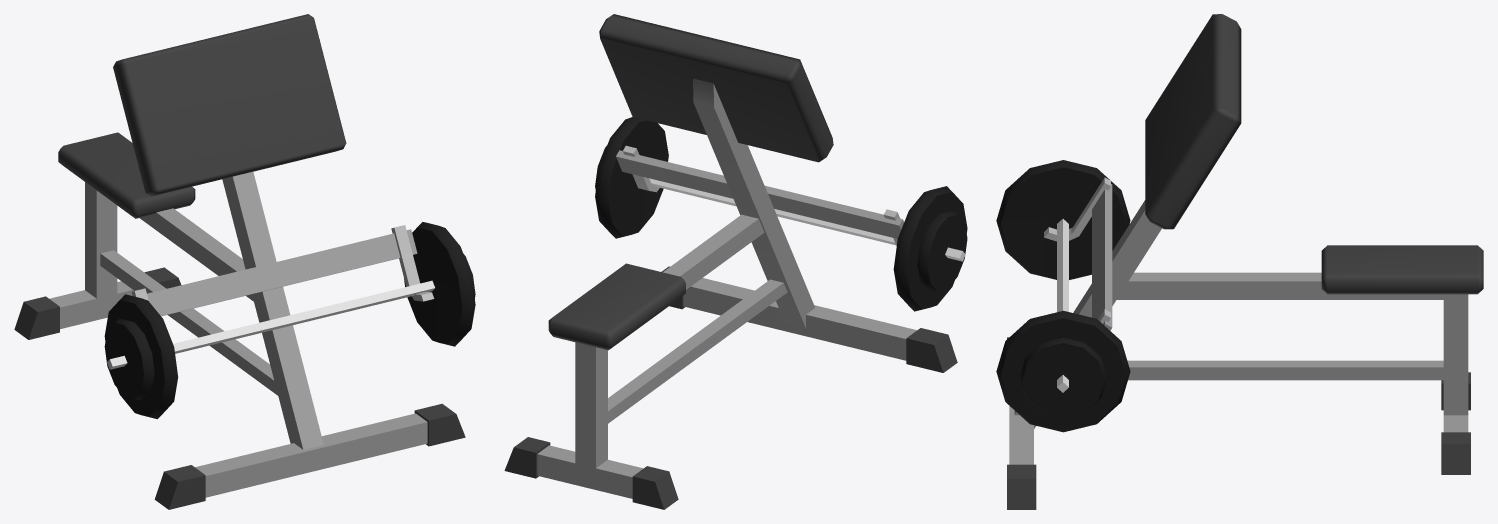
File: SM_training_item_001.FBX
3 renders of one model, left to right at view 1: azimuth 30°, elevation 25°; view 2: azimuth 150°, elevation 25°; view 3: azimuth 270°, elevation 25°, orthographic. The views are drawn at different scales.
Parts seen in each view (by area): view 1: SM_training_item_001; view 2: SM_training_item_001; view 3: SM_training_item_001.
Boxes of the visible parts, bbox=[...] form: SM_training_item_001: bbox=[14, 14, 475, 509]; SM_training_item_001: bbox=[504, 14, 967, 509]; SM_training_item_001: bbox=[996, 14, 1483, 509].
Bounding box in the file's own units: 114 × 128 × 109.
